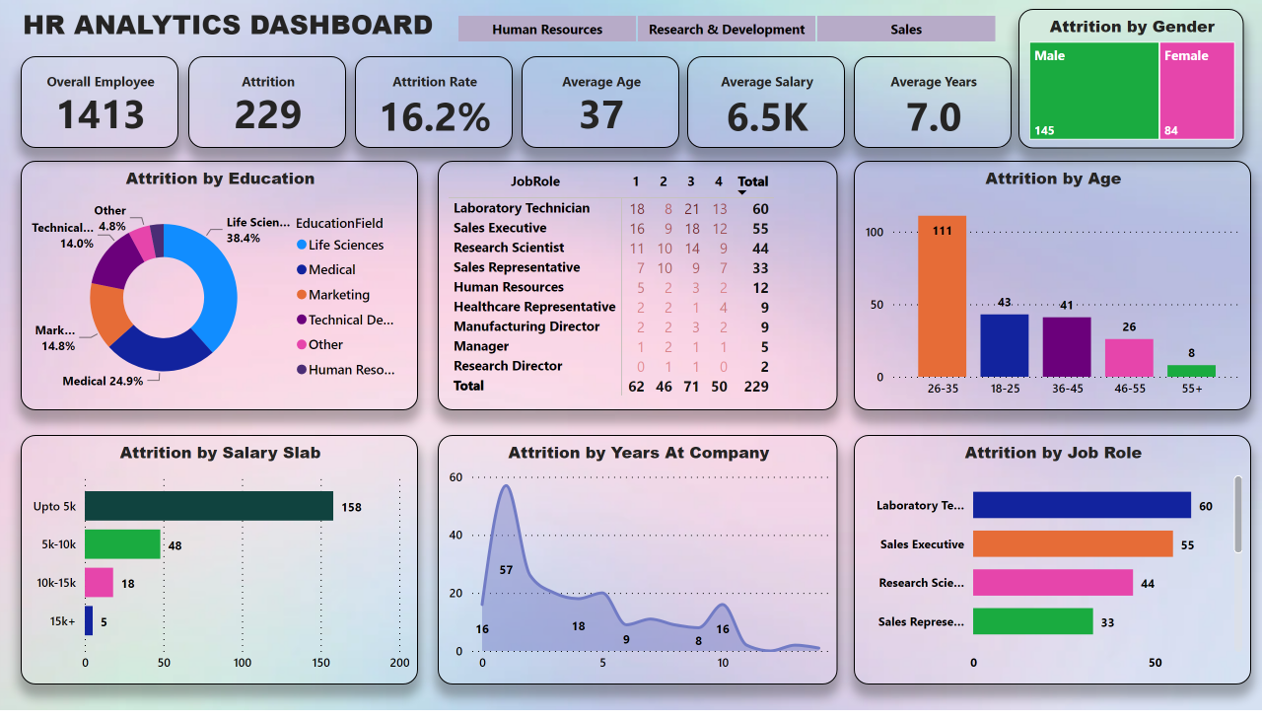

What the dashboard file says about the page in this screenshot:
{"tool":"powerbi","page":{"name":"HR Analytics","canvas":[1280,720],"ordinal":0},"visuals":[{"type":"card","title":"Overall Employee","fields":{"Values":["CountNonNull(HR_Analytics.EmpID)"]},"box":[21.4,57.1,160,92.9],"z":0},{"type":"card","title":"Attrition","fields":{"Values":["Sum(HR_Analytics.AttritionCount)"]},"box":[191.4,57.1,160,92.9],"z":1000},{"type":"card","title":"Attrition Rate","fields":{"Values":["HR_Analytics.AttritionRate"]},"box":[360,57.1,160,92.9],"z":2000},{"type":"card","title":"Average Age","fields":{"Values":["Avg(HR_Analytics.Age)"]},"box":[528.6,57.1,160,92.9],"z":3000},{"type":"card","title":"Average Salary","fields":{"Values":["Avg(HR_Analytics.MonthlyIncome)"]},"box":[697.1,57.1,160,92.9],"z":4000},{"type":"card","title":"Average Years","fields":{"Values":["Avg(HR_Analytics.YearsAtCompany)"]},"box":[865.7,57.1,160,92.9],"z":5000},{"type":"donutChart","title":"Attrition by Education","fields":{"Category":["HR_Analytics.EducationField"],"Y":["Sum(HR_Analytics.AttritionCount)"]},"box":[21.4,162.9,402.9,252.9],"z":6000},{"type":"columnChart","title":"Attrition by Age","fields":{"Category":["HR_Analytics.AgeGroup"],"Y":["Sum(HR_Analytics.AttritionCount)"]},"box":[865.7,162.9,402.9,252.9],"z":7000},{"type":"barChart","title":"Attrition by Salary Slab","fields":{"Category":["HR_Analytics.SalarySlab"],"Y":["Sum(HR_Analytics.AttritionCount)"]},"box":[21.4,441.4,402.9,252.9],"z":8000},{"type":"stackedAreaChart","title":"Attrition by Years At Company","fields":{"Category":["HR_Analytics.YearsAtCompany"],"Y":["Sum(HR_Analytics.AttritionCount)"]},"box":[444.3,441.4,405.7,252.9],"z":9000},{"type":"pivotTable","title":"Attrition by Age","fields":{"Rows":["HR_Analytics.JobRole"],"Values":["Sum(HR_Analytics.AttritionCount)"],"Columns":["HR_Analytics.JobSatisfaction"]},"box":[444.3,162.9,405.7,252.9],"z":10000},{"type":"treemap","title":"Attrition by Gender","fields":{"Group":["HR_Analytics.Gender"],"Values":["Sum(HR_Analytics.AttritionCount)"]},"box":[1032.9,8.6,228.6,141.4],"z":11000},{"type":"slicer","fields":{"Values":["HR_Analytics.Department"]},"box":[438.6,8.6,594.3,40],"z":12000},{"type":"textbox","box":[18.1,0,439,56.7],"z":13000},{"type":"barChart","title":"Attrition by Job Role","fields":{"Category":["HR_Analytics.JobRole"],"Y":["Sum(HR_Analytics.AttritionCount)"]},"box":[865.7,441.4,402.9,252.9],"z":14000}]}

Visuals, with their boxes in screenshot pixels (x1, y1, x2, y2), scaled from the page's 1280x720 canvas onto the 1262x720 screenshot:
"Overall Employee" card: x1=21, y1=57, x2=179, y2=150
"Attrition" card: x1=189, y1=57, x2=346, y2=150
"Attrition Rate" card: x1=355, y1=57, x2=513, y2=150
"Average Age" card: x1=521, y1=57, x2=679, y2=150
"Average Salary" card: x1=687, y1=57, x2=845, y2=150
"Average Years" card: x1=854, y1=57, x2=1011, y2=150
"Attrition by Education" donutChart: x1=21, y1=163, x2=418, y2=416
"Attrition by Age" columnChart: x1=854, y1=163, x2=1251, y2=416
"Attrition by Salary Slab" barChart: x1=21, y1=441, x2=418, y2=694
"Attrition by Years At Company" stackedAreaChart: x1=438, y1=441, x2=838, y2=694
"Attrition by Age" pivotTable: x1=438, y1=163, x2=838, y2=416
"Attrition by Gender" treemap: x1=1018, y1=9, x2=1244, y2=150
slicer - HR_Analytics.Department: x1=432, y1=9, x2=1018, y2=49
textbox: x1=18, y1=0, x2=451, y2=57
"Attrition by Job Role" barChart: x1=854, y1=441, x2=1251, y2=694
